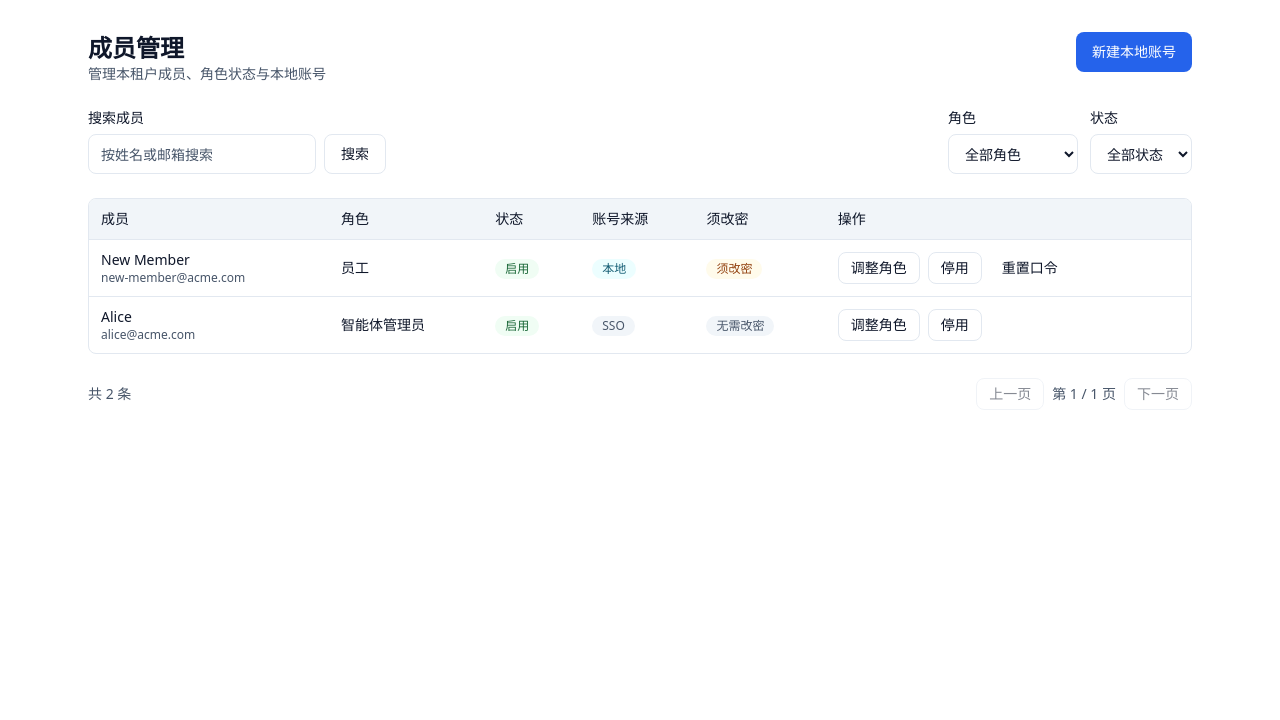
Test case: MemberListPage roster › surfaces the last-administrator refusal when a role demotion is refused
Check: the text "alice@acme.com" is shown, box [101,326,195,343]
Click the button "调整角色" in the row of "alice@acme.com" at [879, 325], box [838,309,920,341]
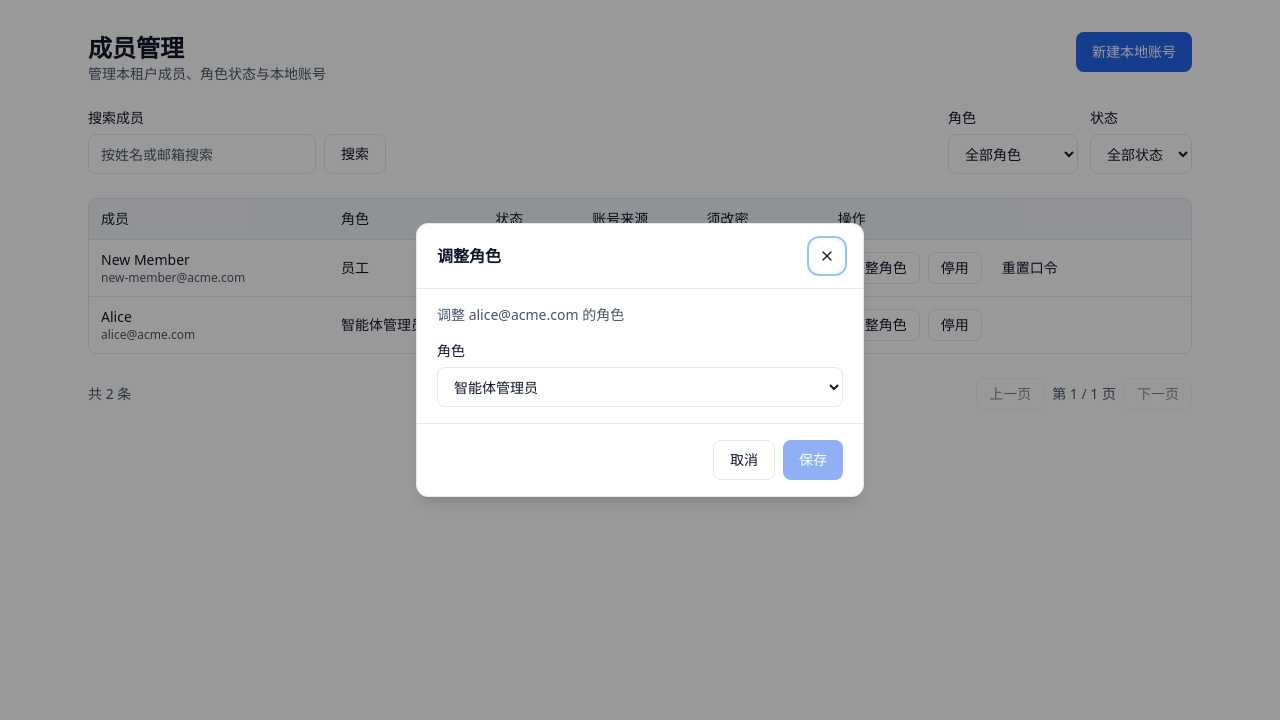
Select "员工" in the dropdown labelled "角色" at [640, 387], box [437,367,843,407]
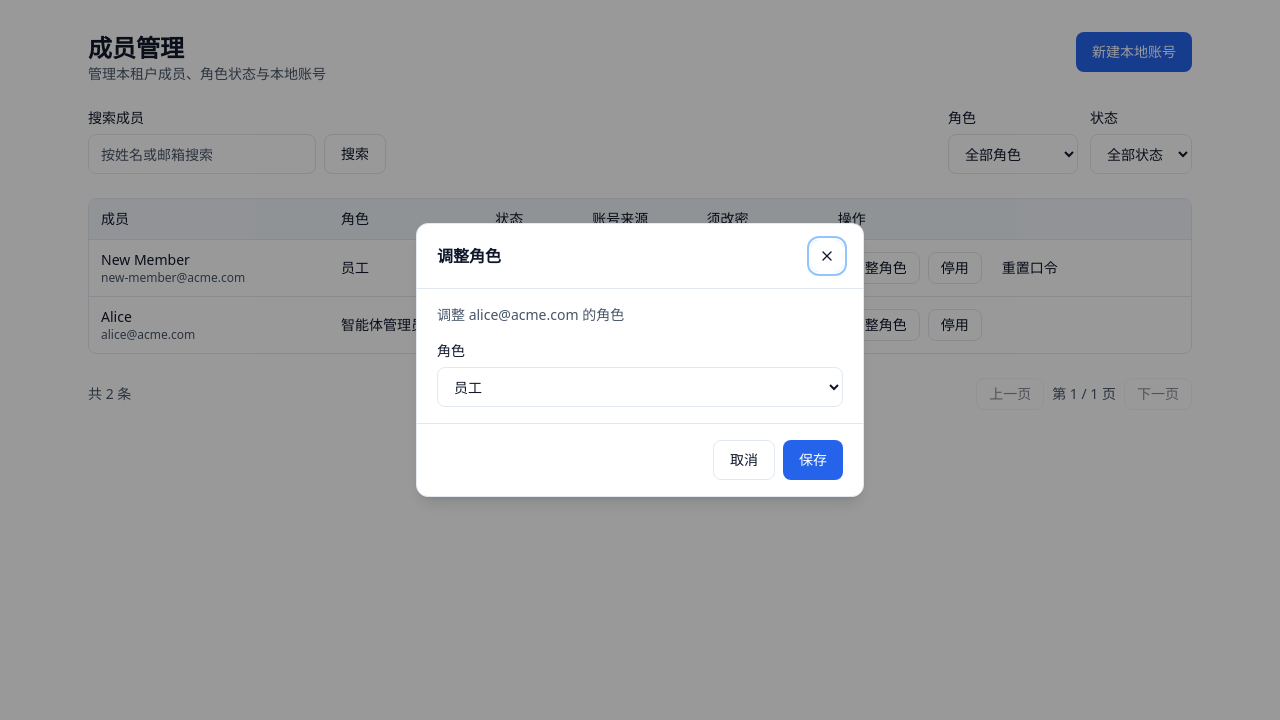
Click the button "保存" at [813, 460], box [783,440,843,480]
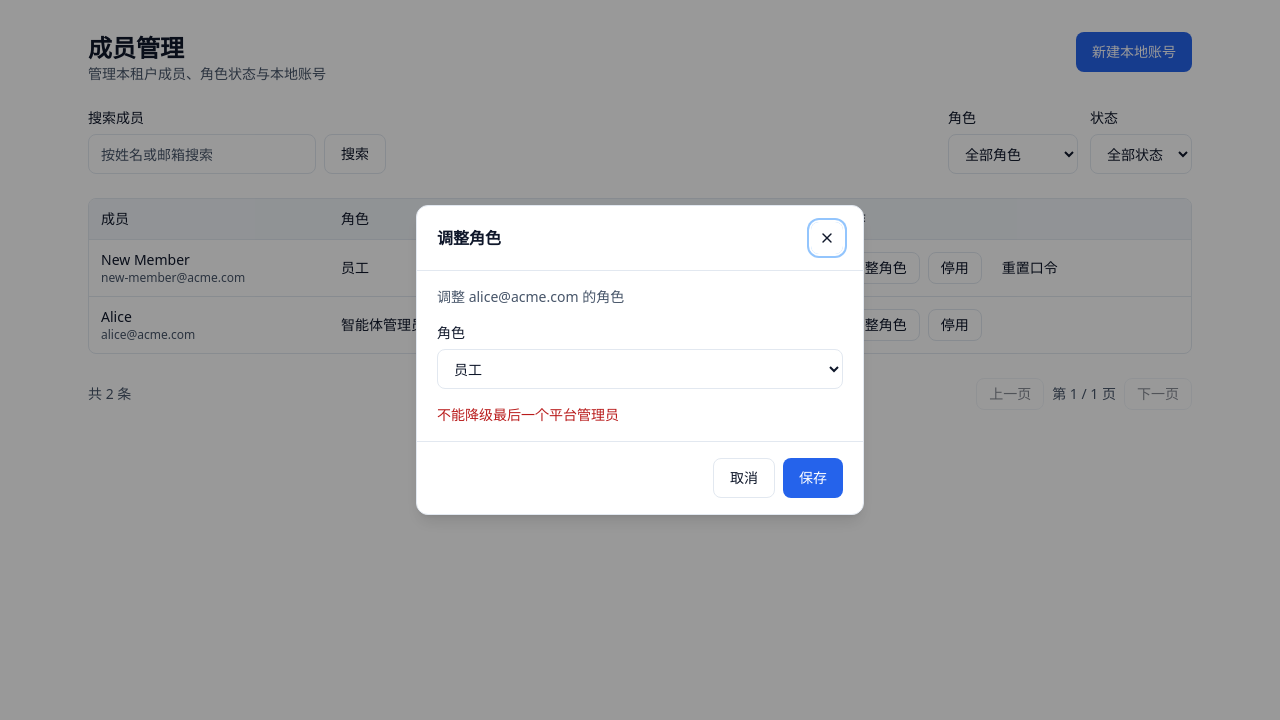
Check: the message reads "不能降级最后一个平台管理员", box [437,405,619,424]
